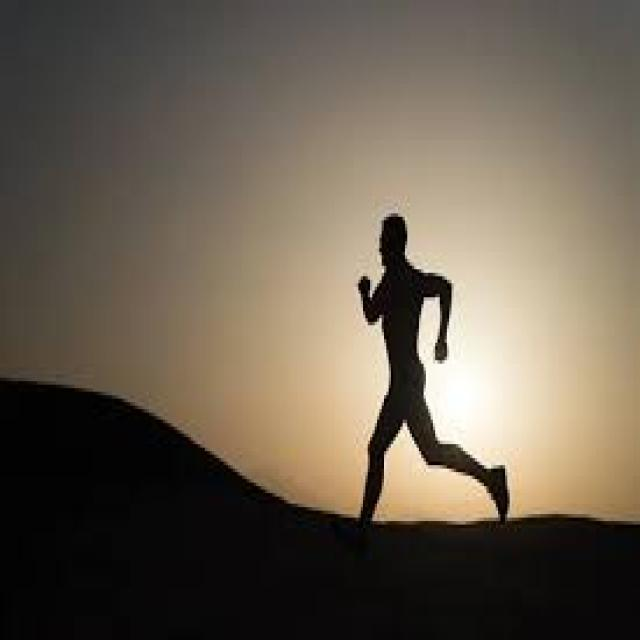Person: (358, 213, 509, 521)
